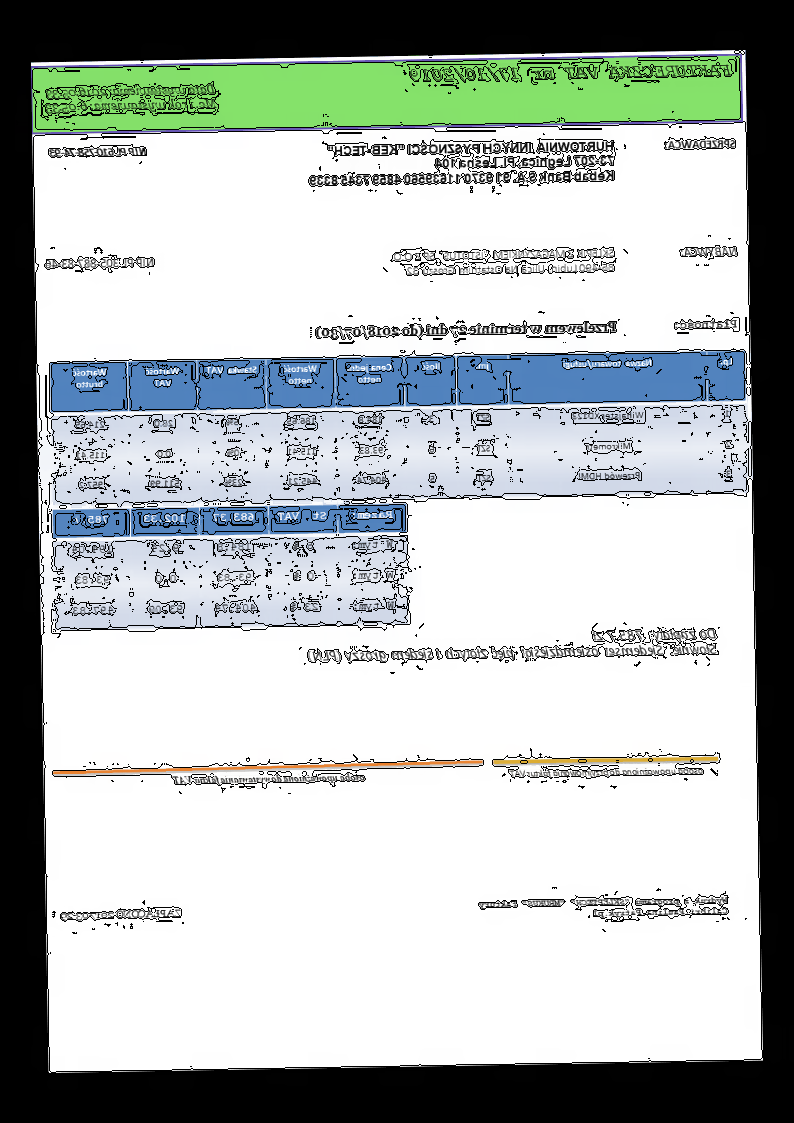Table: (49, 348, 750, 507), (50, 502, 411, 632)
TextBox: (306, 136, 617, 190), (306, 624, 720, 664), (408, 60, 734, 86), (389, 245, 617, 279), (476, 894, 730, 922), (315, 318, 619, 340), (43, 81, 220, 117), (507, 764, 705, 782), (171, 769, 368, 787), (60, 906, 185, 923), (43, 254, 158, 272), (47, 143, 149, 160), (662, 136, 738, 151), (673, 316, 740, 331), (679, 243, 739, 258)
